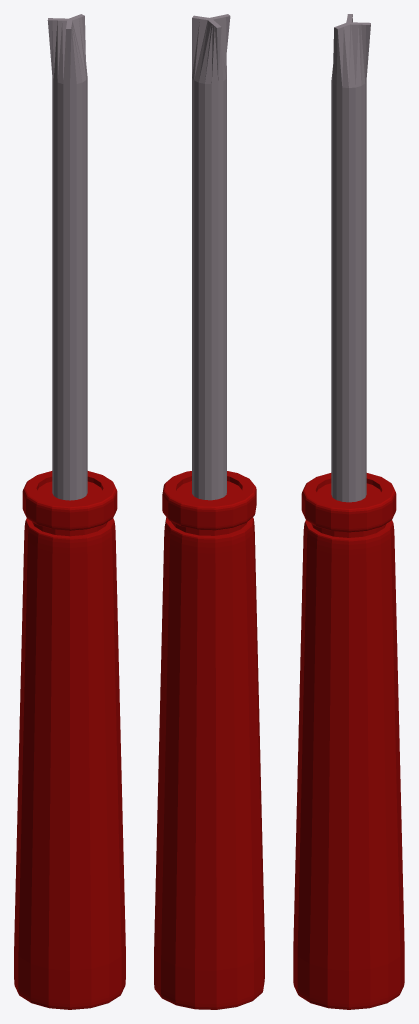
Rendered from ScrewDriverY 1.fbx.
3 renders of one model, left to right at view 1: azimuth 90°, elevation 25°; view 2: azimuth 210°, elevation 25°; view 3: azimuth 270°, elevation 25°, orthographic.
Visible parts, largest first — view 1: ScrewDriverY; view 2: ScrewDriverY; view 3: ScrewDriverY.
Part boxes in pixels (x1,y1,x2,y2): ScrewDriverY: [14, 14, 125, 1009]; ScrewDriverY: [154, 14, 264, 1009]; ScrewDriverY: [293, 14, 404, 1009].
Bounding box in the file's own units: 520 × 4972 × 520.
